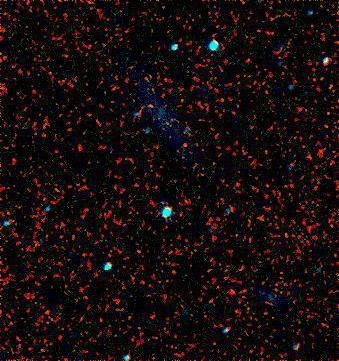star: (172, 130, 202, 160)
